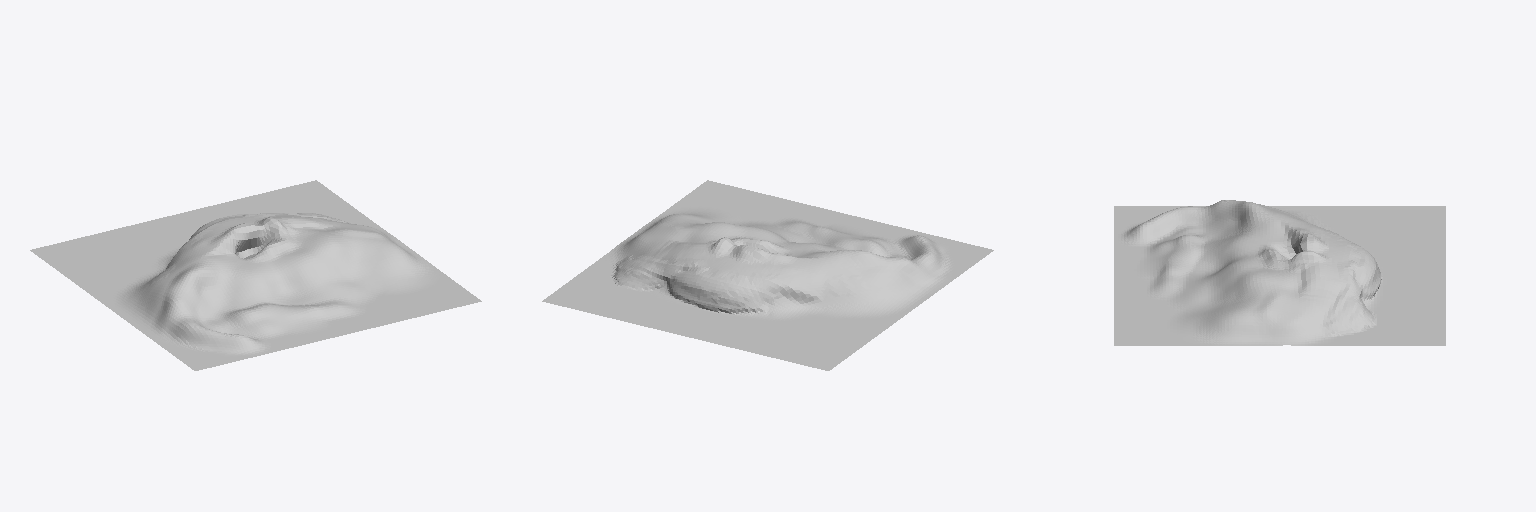
File: simple_terrain.obj
3 views of the same model, side by side, from view 1: azimuth 30°, elevation 25°; view 2: azimuth 150°, elevation 25°; view 3: azimuth 270°, elevation 25° (orthographic).
Parts seen in each view (by area): view 1: Plane_Plane.001; view 2: Plane_Plane.001; view 3: Plane_Plane.001.
Part boxes in pixels (left/top/right/bottom): Plane_Plane.001: left=30, top=180, right=481, bottom=370; Plane_Plane.001: left=542, top=180, right=993, bottom=370; Plane_Plane.001: left=1114, top=200, right=1445, bottom=345.
Bounding box in the file's own units: 100 × 13.16 × 100.